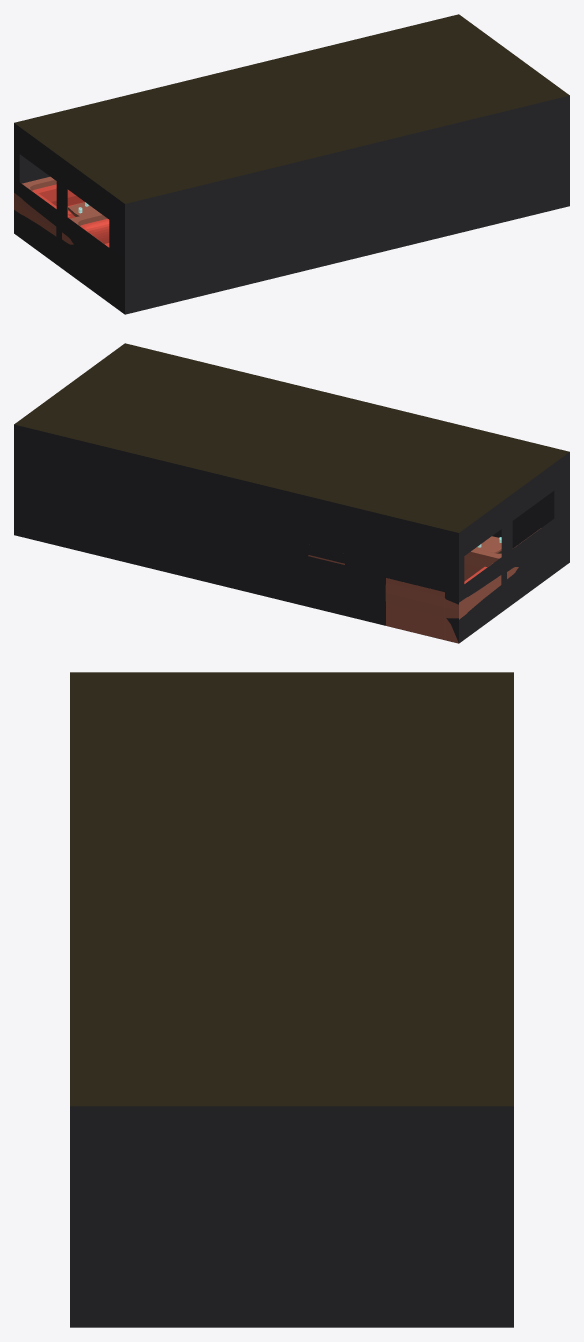
Rendered from coffee_shop.glb.
The picture shows the model from 3 angles, top to bottom: view 1: azimuth 30°, elevation 25°; view 2: azimuth 150°, elevation 25°; view 3: azimuth 270°, elevation 25°; orthographic projection. The views are drawn at different scales.
Visible parts, largest first — view 1: Wall, Ceiling, Sofa, Sofa.001; view 2: Wall, Ceiling, Sofa, Sofa.001; view 3: Ceiling, Wall.
Boxes of the visible parts, x1,y1,x2,y2 form: Wall: (14, 95, 569, 314); Ceiling: (14, 14, 569, 203); Sofa: (14, 176, 84, 236); Sofa.001: (62, 212, 109, 247); Wall: (14, 424, 569, 643); Ceiling: (14, 343, 569, 532); Sofa: (385, 563, 501, 643); Sofa.001: (464, 528, 540, 581); Ceiling: (70, 672, 513, 1106); Wall: (70, 1106, 513, 1327).
Size of the model in its own units: 11.57 by 2.75 by 5.
